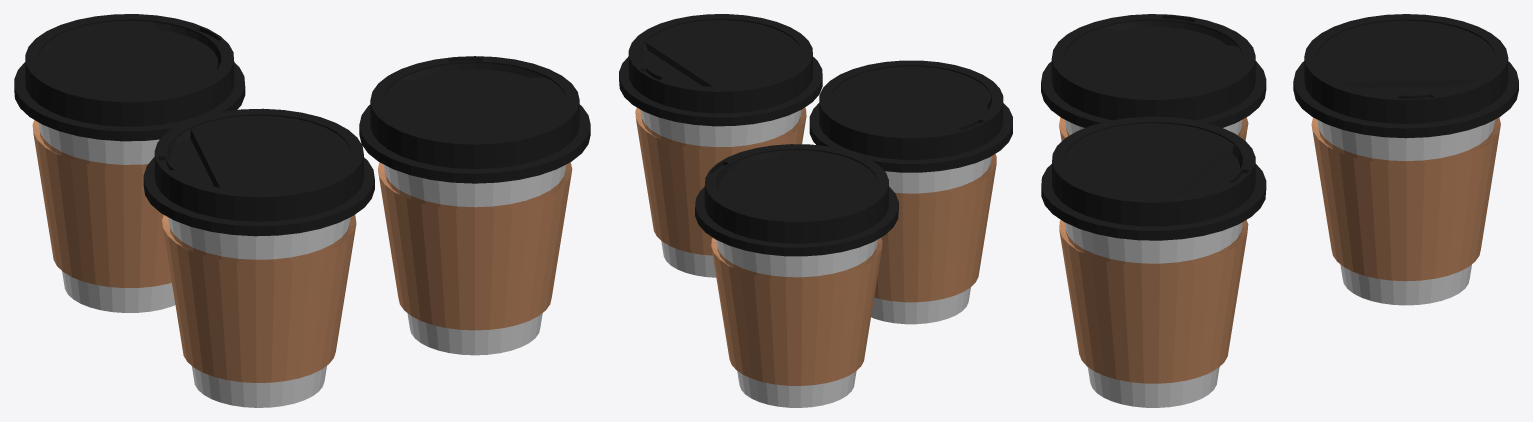
File: Stakan3.fbx
The picture shows the model from 3 angles, left to right: view 1: azimuth 30°, elevation 25°; view 2: azimuth 150°, elevation 25°; view 3: azimuth 270°, elevation 25°; orthographic projection. The views are drawn at different scales.
Parts seen in each view (by area): view 1: Цилиндр.002, Цилиндр.001, Цилиндр; view 2: Цилиндр, Цилиндр.001, Цилиндр.002; view 3: Цилиндр.002, Цилиндр, Цилиндр.001.
Part boxes in pixels (<box>): Цилиндр.002: <box>359,56,590,355</box>; Цилиндр.001: <box>143,108,374,407</box>; Цилиндр: <box>14,14,245,312</box>; Цилиндр: <box>695,144,898,407</box>; Цилиндр.001: <box>809,60,1012,324</box>; Цилиндр.002: <box>619,14,822,277</box>; Цилиндр.002: <box>1041,116,1266,407</box>; Цилиндр: <box>1293,14,1518,305</box>; Цилиндр.001: <box>1041,14,1266,140</box>.
Bounding box in the file's own units: 451 × 236 × 461.
